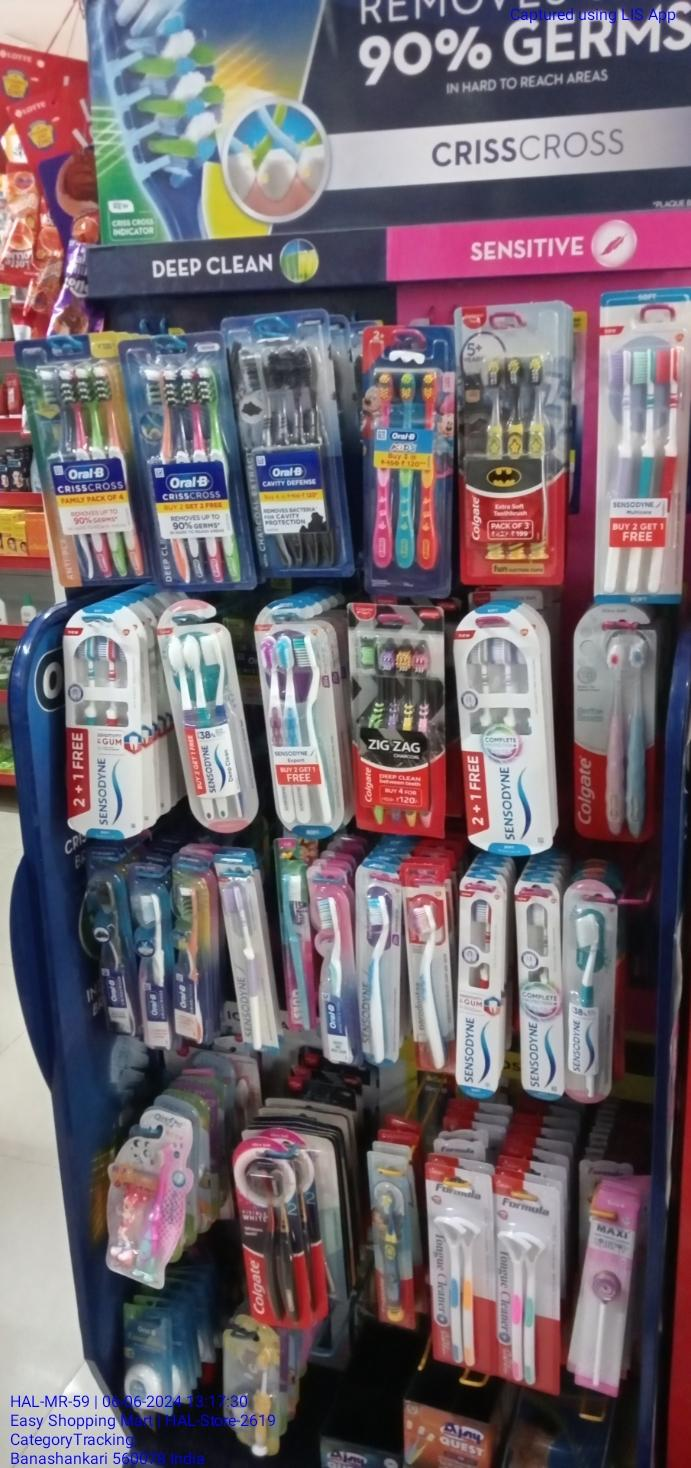16: (63, 605, 149, 842)
4: (452, 604, 561, 855)
5: (160, 597, 250, 834)
6: (261, 602, 336, 837)
8: (594, 290, 685, 608)
9: (171, 858, 215, 1046)
liquid soap: (345, 603, 449, 839)
